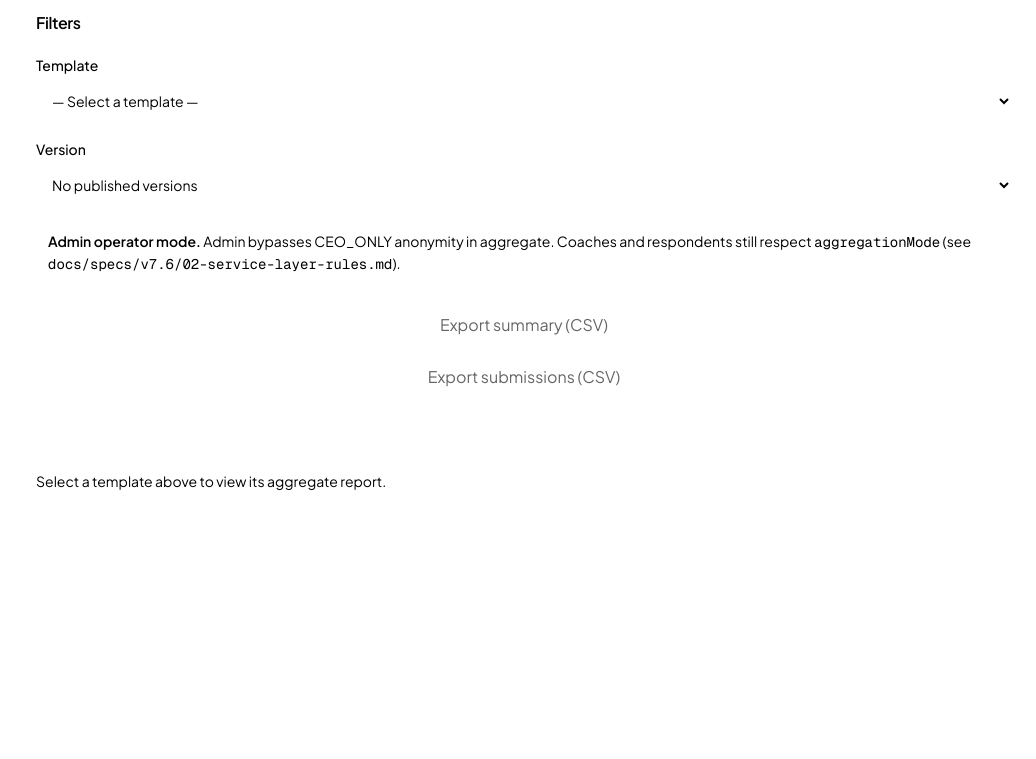
Test: keeps comparison columns in a named bounded region when responsive
Step 1. Select "Scaling Up Full (su-full)" in the dropdown labelled "Template" → [524, 101], box [36, 79, 1012, 123]
(page scrolled)
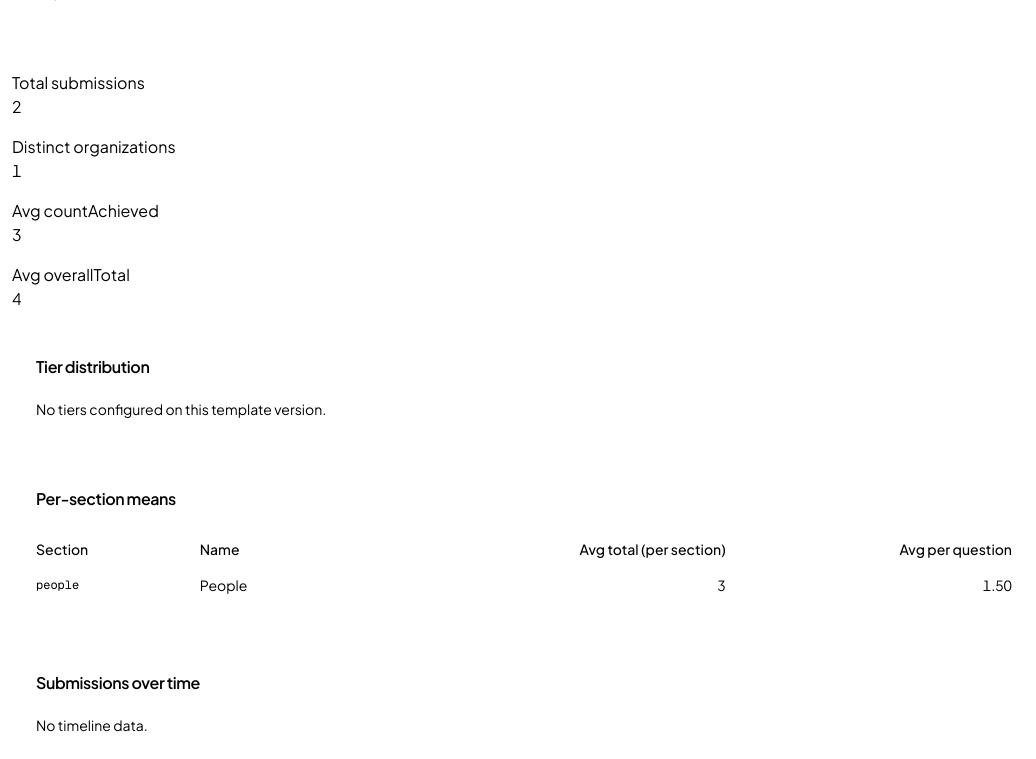
Check: the column heading "Avg total (per section)" is shown, box [352, 531, 742, 567]
Check: the text "People" is shown, box [200, 567, 352, 603]
